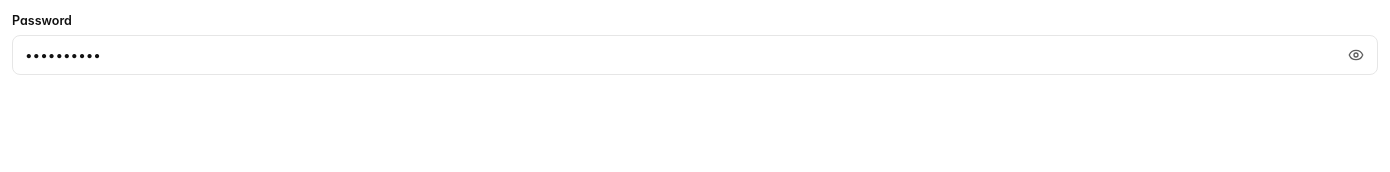
it: Authentication UI Components › PasswordField › toggles password visibility between password and text
Click to show password
Click the button named "Show password". click: (1356, 55)
box: [1342,41,1370,69]
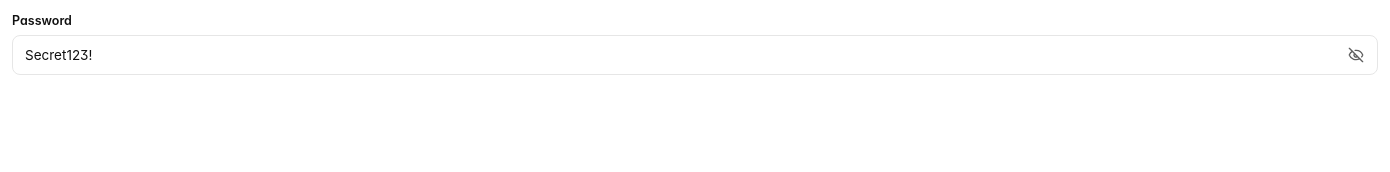
Now the field labelled "Password" shows its text, box [12,35,1378,75]
Now the button named "Hide password" is shown
Click again to hide password
Click the button named "Hide password". click: (1356, 55)
box: [1342,41,1370,69]
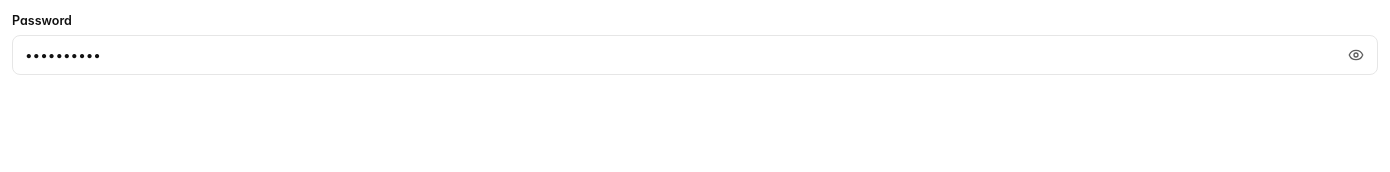
Now the password field labelled "Password" hides its text, box [12,35,1378,75]
Now the button named "Show password" is shown, box [1342,41,1370,69]
